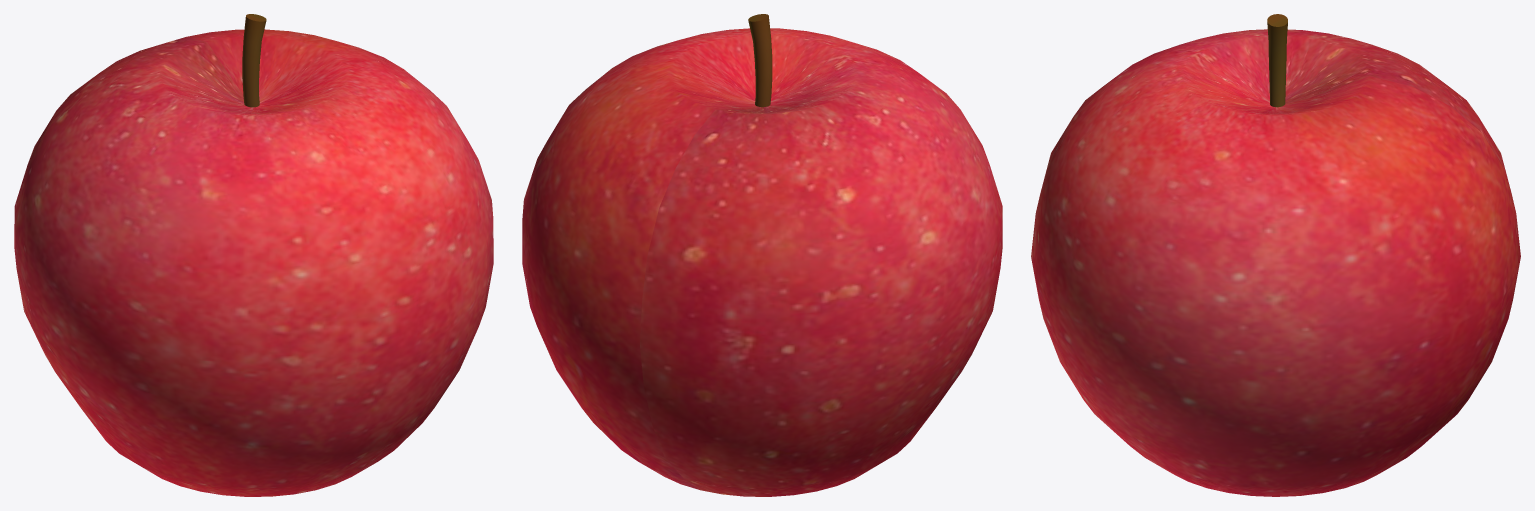
The model's file is Apple1.fbx.
3 renders of one model, left to right at view 1: azimuth 30°, elevation 25°; view 2: azimuth 150°, elevation 25°; view 3: azimuth 270°, elevation 25°, orthographic.
Parts seen in each view (by area): view 1: Apple1; view 2: Apple1; view 3: Apple1.
Part boxes in pixels (x1,y1,x2,y2): Apple1: (14,14,493,496); Apple1: (522,14,1002,496); Apple1: (1031,14,1520,496).
Bounding box in the file's own units: 2.94 × 2.99 × 3.
1 material, 1 textured.
